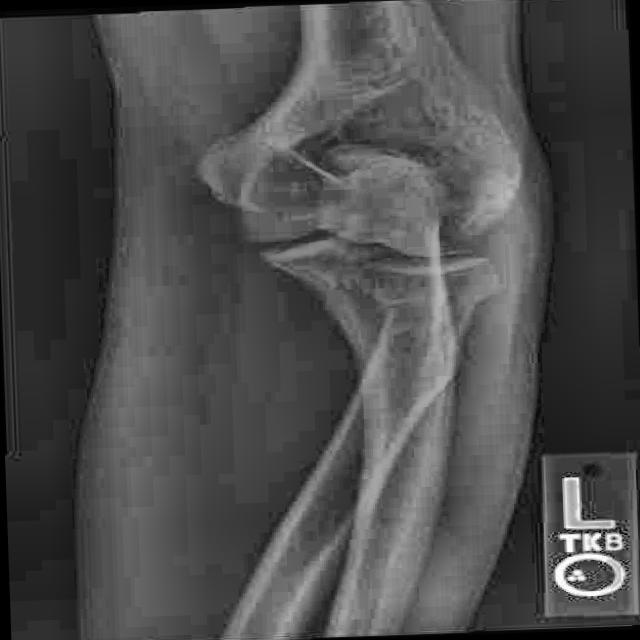elbow positive: (367, 180, 532, 273), (349, 283, 529, 326)
